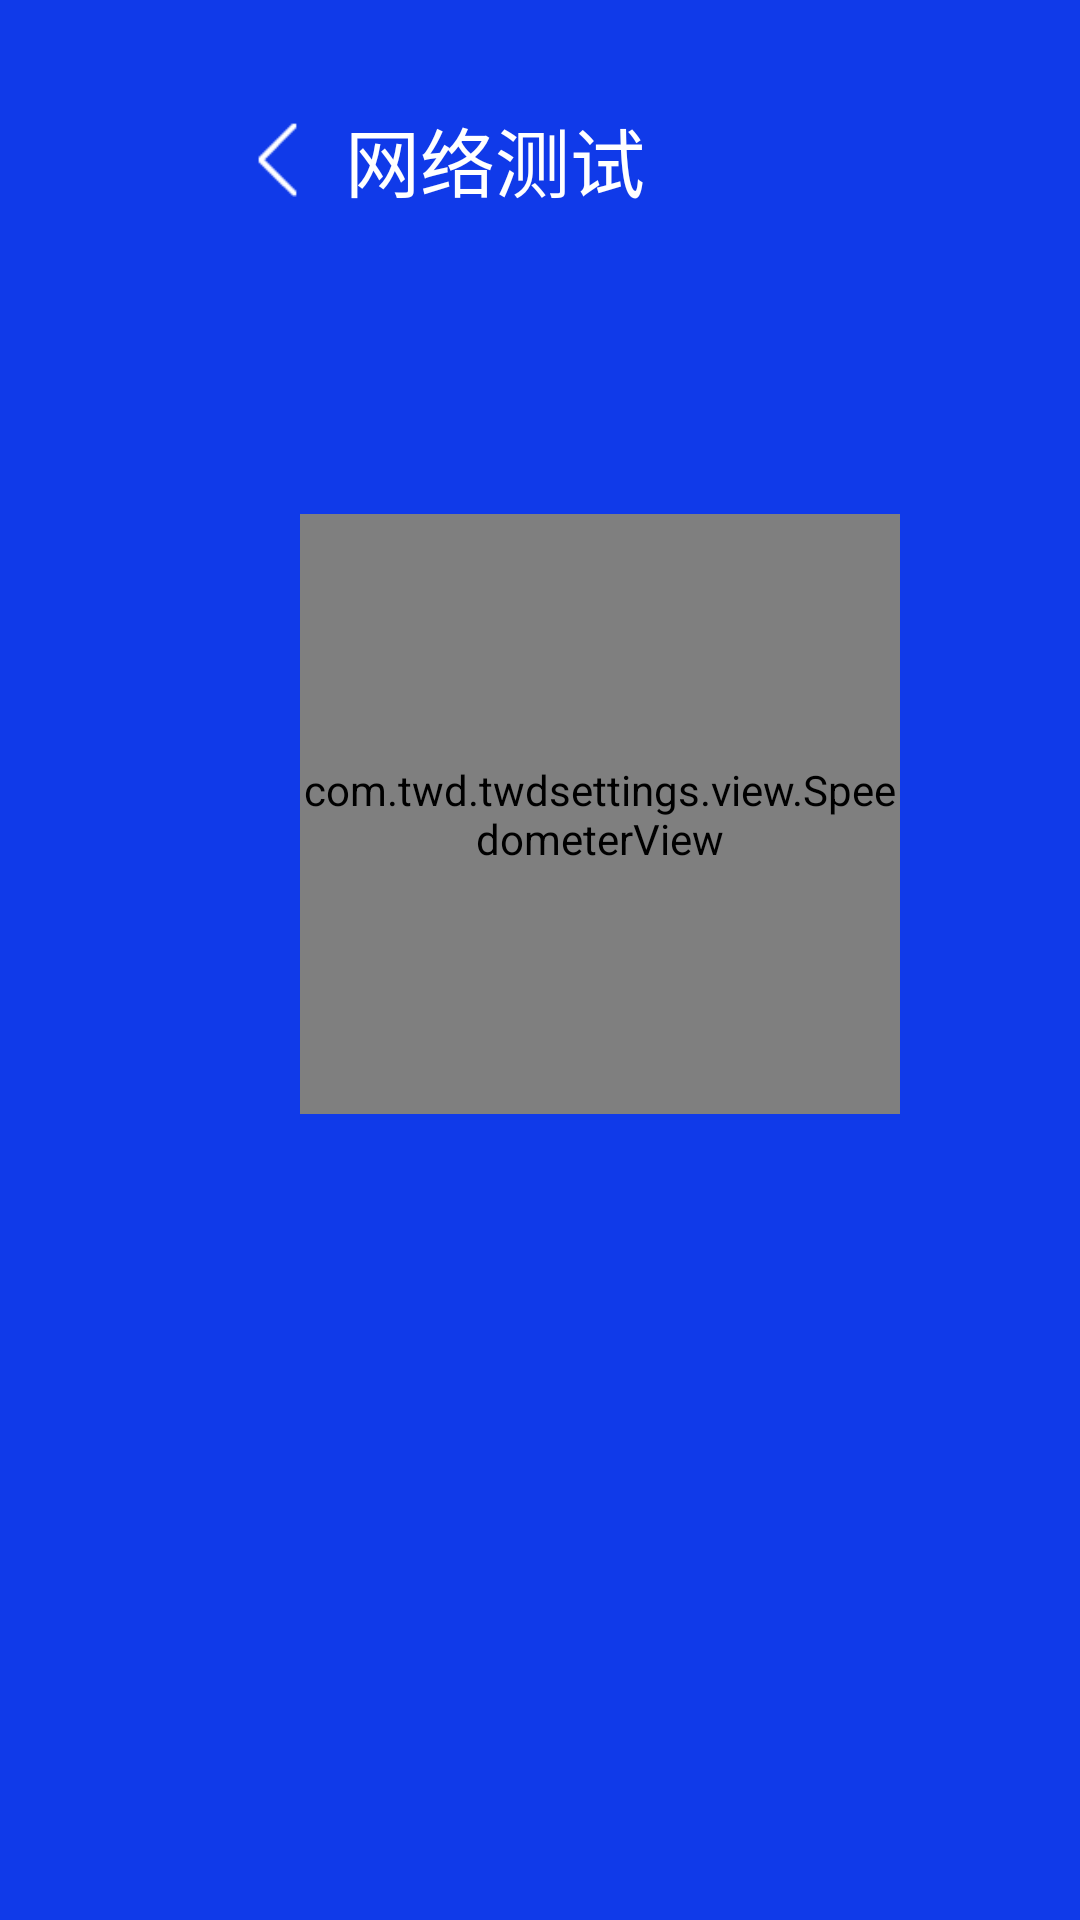

Screen size 1080 × 1920. Icon name, then its center in pixels as point (x, y):
arrow back: point (277, 160)
